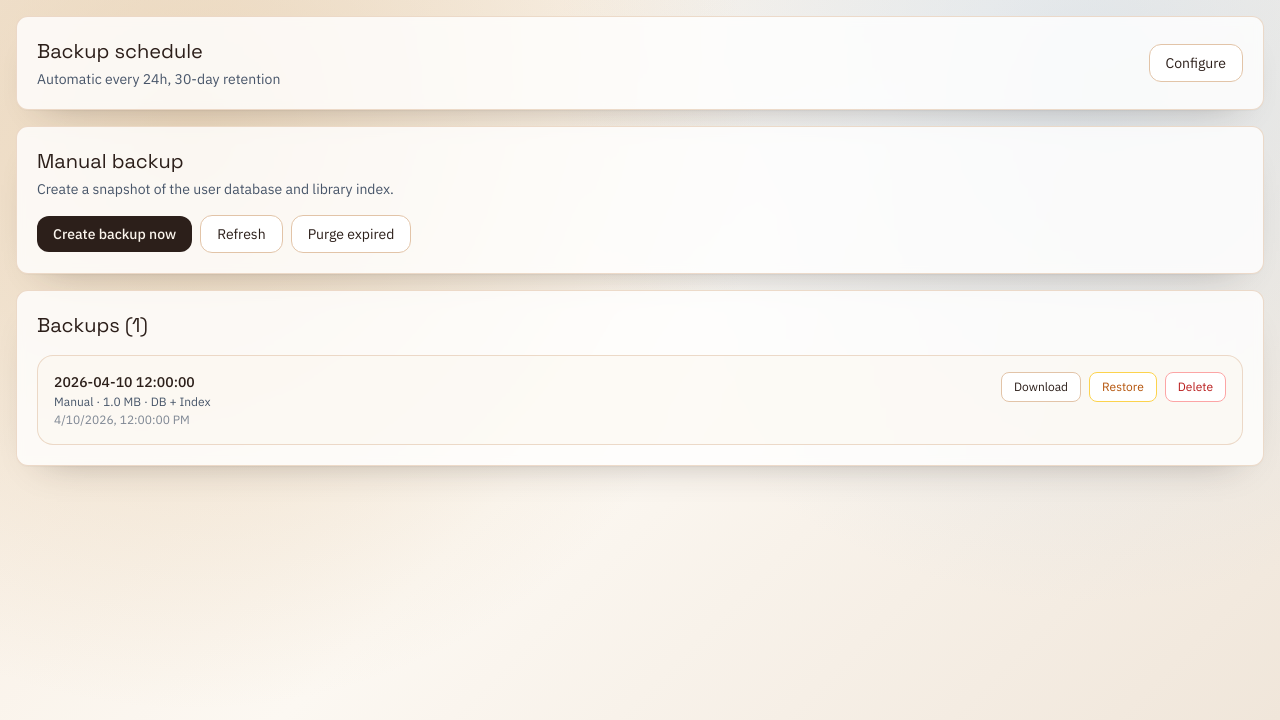
Test case: AdminBackupView › shows restore confirmation flow
Click the button "Restore". click: (1123, 387)
box: top-left (1089, 372), bottom-right (1157, 402)
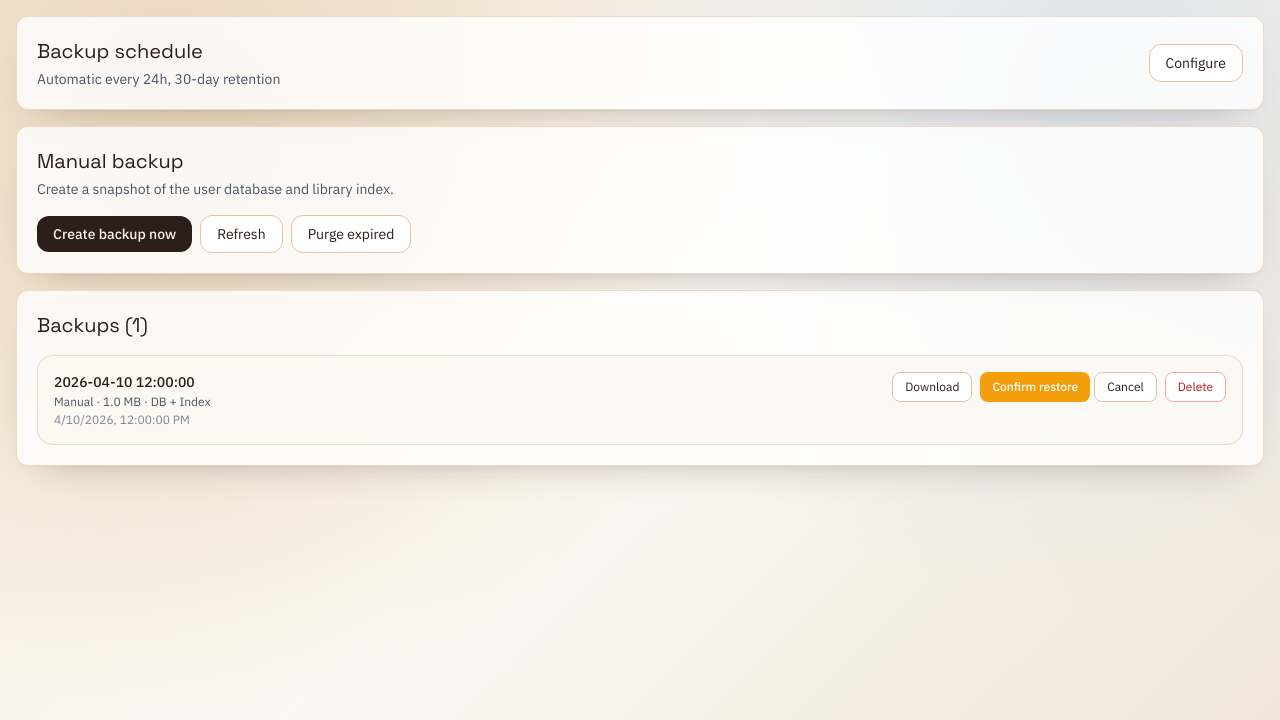
Now the button "Confirm restore" is shown, box top-left (980, 372), bottom-right (1090, 402)
Click the button "Cancel". click: (1126, 387)
box: top-left (1094, 372), bottom-right (1157, 402)
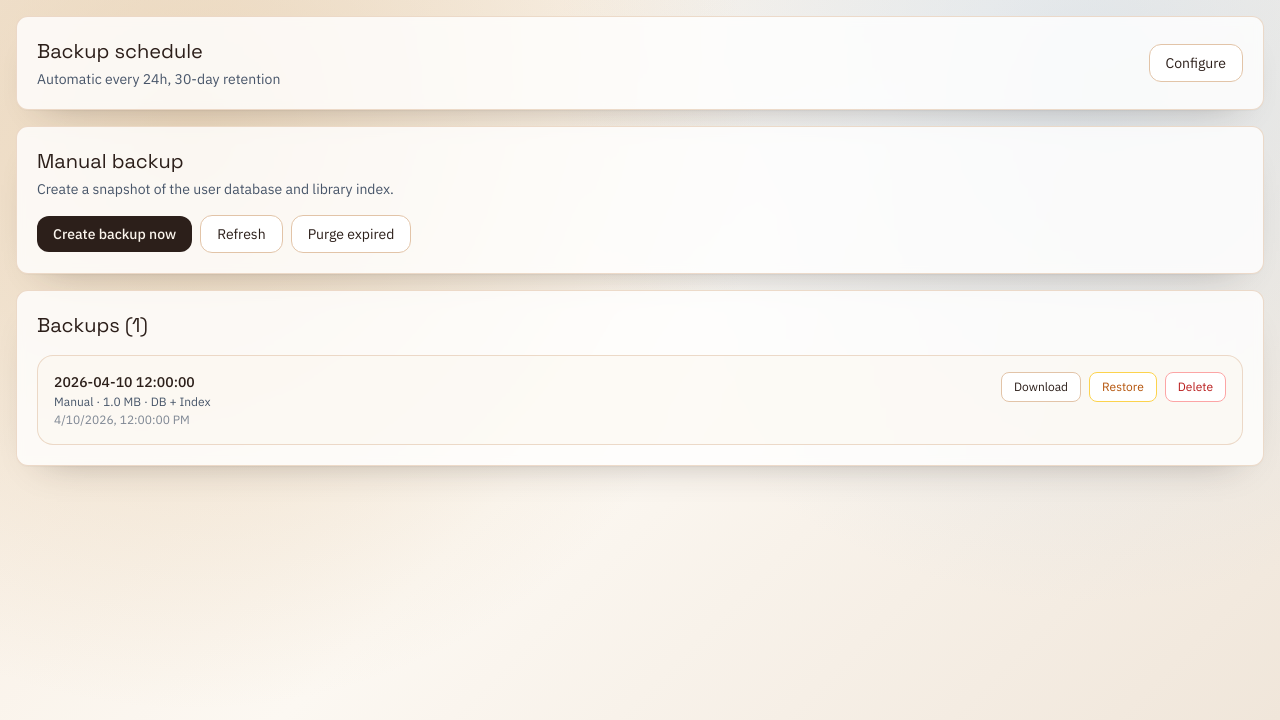
Now the button "Confirm restore" is gone
